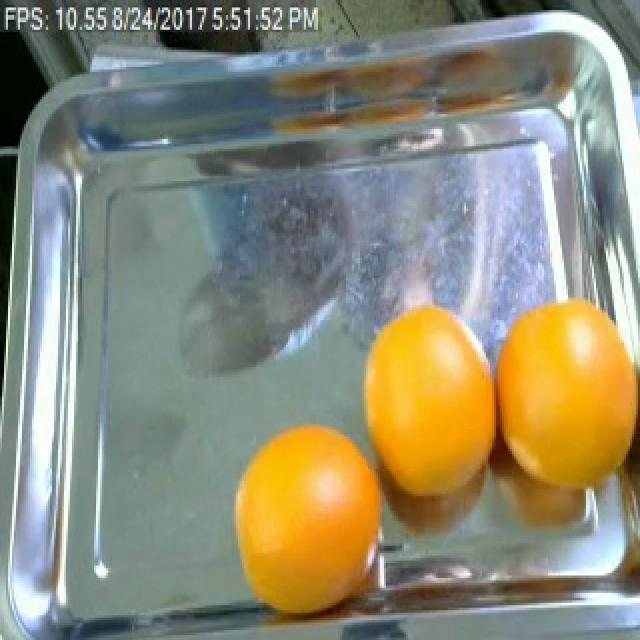Fruit: (220, 409, 380, 620), (478, 278, 638, 474)
